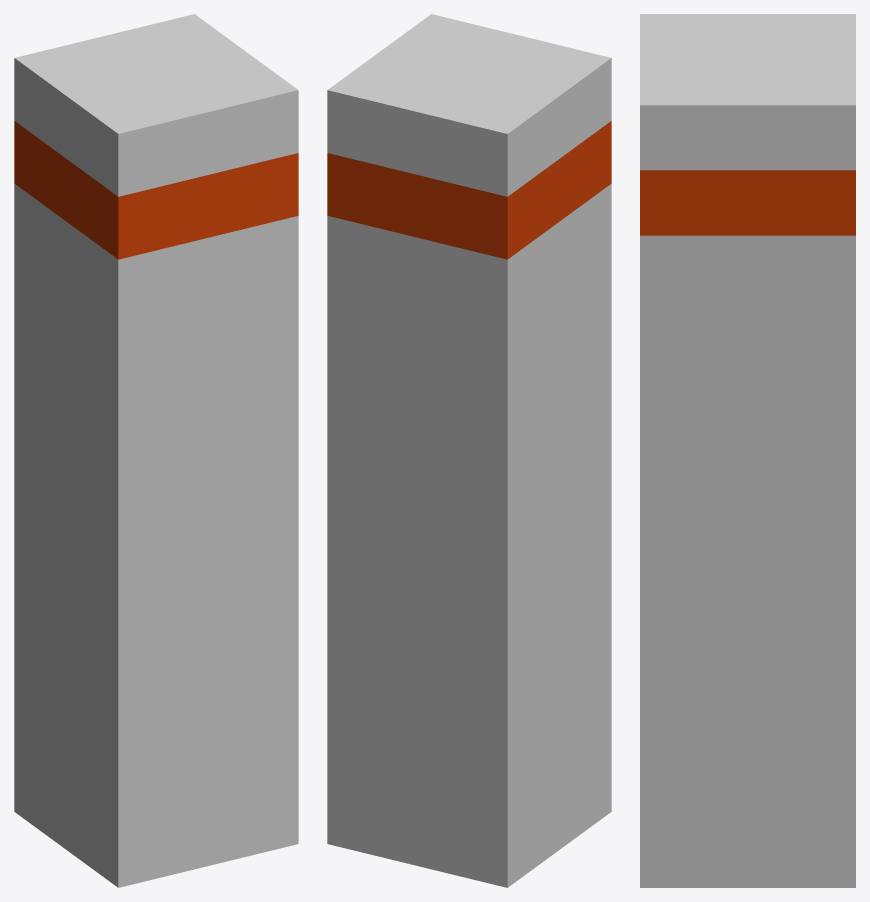
3 renders of one model, left to right at view 1: azimuth 30°, elevation 25°; view 2: azimuth 150°, elevation 25°; view 3: azimuth 270°, elevation 25°, orthographic. The views are drawn at different scales.
Parts seen in each view (by area): view 1: Cube; view 2: Cube; view 3: Cube.
Part boxes in pixels (x1,y1,x2,y2): Cube: (14,14,298,887); Cube: (327,14,611,887); Cube: (640,14,855,887).
Bounding box in the file's own units: 2 × 8 × 2.
